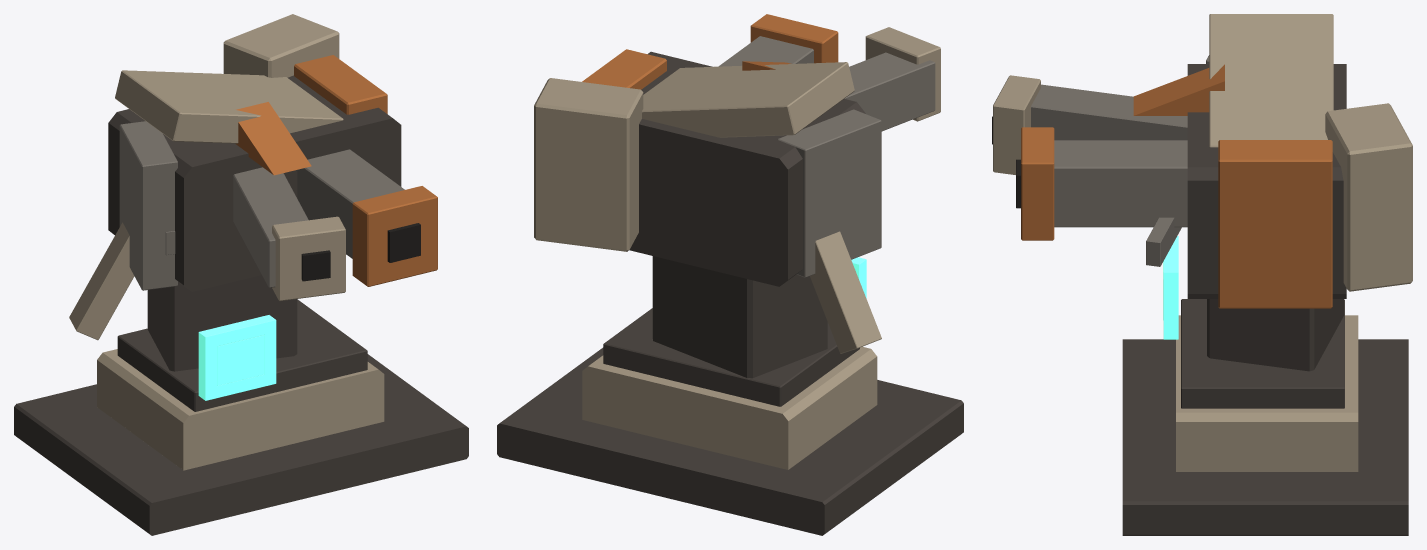
File: intact.glb
3 renders of one model, left to right at view 1: azimuth 30°, elevation 25°; view 2: azimuth 150°, elevation 25°; view 3: azimuth 270°, elevation 25°, orthographic. The views are drawn at different scales.
Visible parts, largest first — view 1: ROLE_primary, ROLE_secondary, ROLE_bareMetal, ROLE_accent, ROLE_interaction, ROLE_rubber; view 2: ROLE_primary, ROLE_secondary, ROLE_bareMetal, ROLE_accent; view 3: ROLE_primary, ROLE_secondary, ROLE_accent, ROLE_bareMetal, ROLE_interaction.
Boxes of the visible parts, x1=… form: ROLE_primary: x1=14, y1=75, x2=468, y2=535; ROLE_secondary: x1=69, y1=14, x2=384, y2=470; ROLE_bareMetal: x1=119, y1=121, x2=404, y2=290; ROLE_accent: x1=235, y1=55, x2=437, y2=286; ROLE_interaction: x1=198, y1=315, x2=276, y2=400; ROLE_rubber: x1=301, y1=223, x2=420, y2=281; ROLE_primary: x1=497, y1=51, x2=963, y2=535; ROLE_secondary: x1=534, y1=27, x2=940, y2=469; ROLE_bareMetal: x1=718, y1=36, x2=935, y2=277; ROLE_accent: x1=582, y1=14, x2=838, y2=89; ROLE_primary: x1=1122, y1=64, x2=1408, y2=535; ROLE_secondary: x1=993, y1=14, x2=1412, y2=471; ROLE_accent: x1=1021, y1=64, x2=1332, y2=308; ROLE_bareMetal: x1=1031, y1=55, x2=1209, y2=266; ROLE_interaction: x1=1163, y1=236, x2=1178, y2=339.
Bounding box in the file's own units: 4.8 × 5.4 × 5.2.
